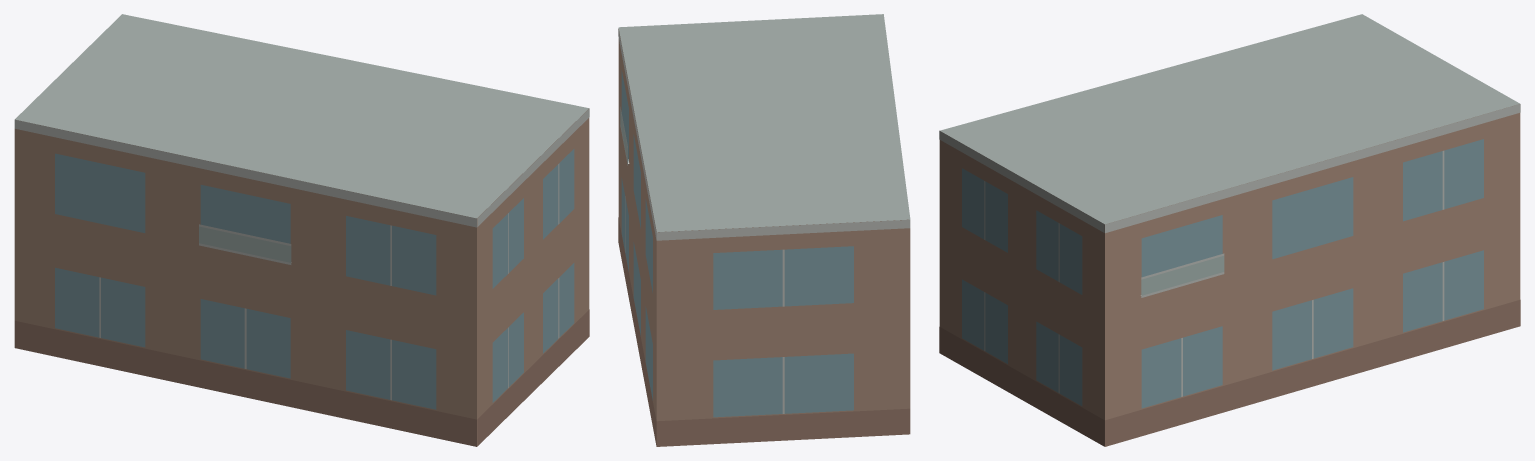
The model's file is survey-upis-32619271.glb.
The picture shows the model from 3 angles, left to right: view 1: azimuth 30°, elevation 25°; view 2: azimuth 150°, elevation 25°; view 3: azimuth 270°, elevation 25°; orthographic projection. The views are drawn at different scales.
Visible parts, largest first — view 1: survey-upis-32619271.tmp; view 2: survey-upis-32619271.tmp; view 3: survey-upis-32619271.tmp.
Boxes of the visible parts, box(x1,y1,x2,y2) form: survey-upis-32619271.tmp: box(14, 14, 589, 446); survey-upis-32619271.tmp: box(618, 14, 910, 446); survey-upis-32619271.tmp: box(939, 14, 1520, 446).
Bounding box in the file's own units: 12.38 × 6.1 × 14.44.
